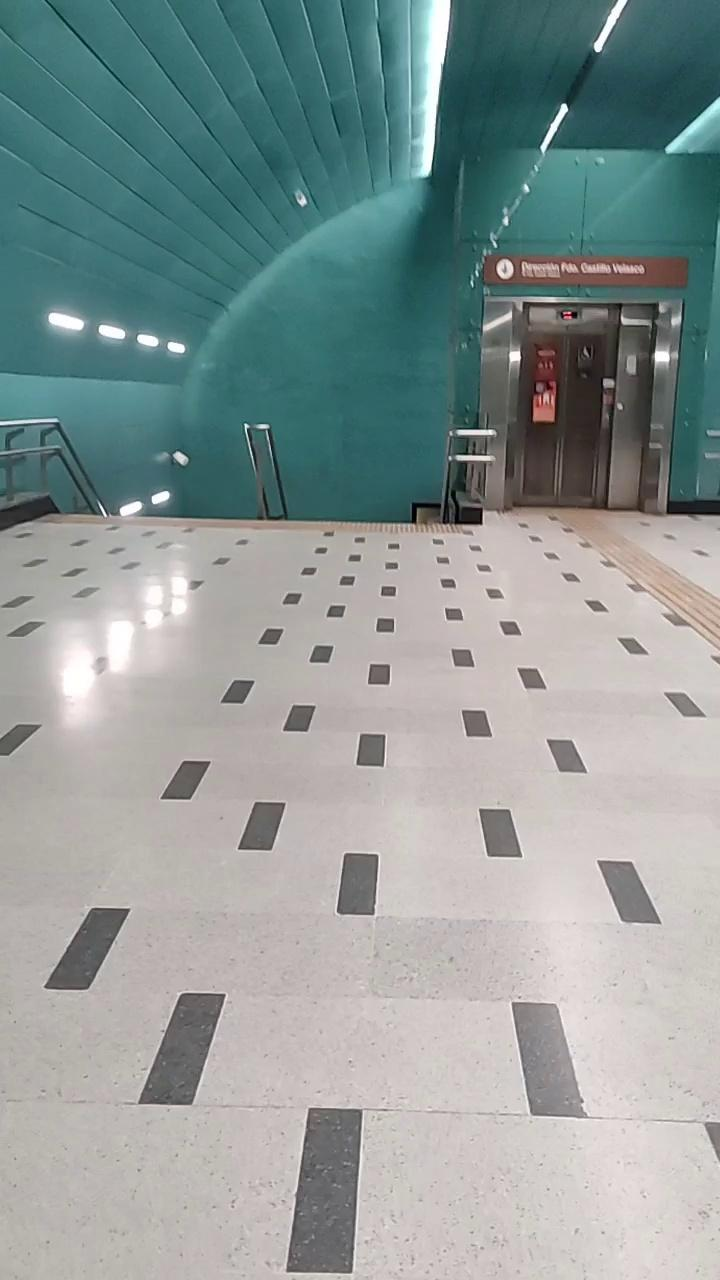down arrow: (496, 260, 513, 278)
handicapped symbol: (578, 344, 593, 372)
